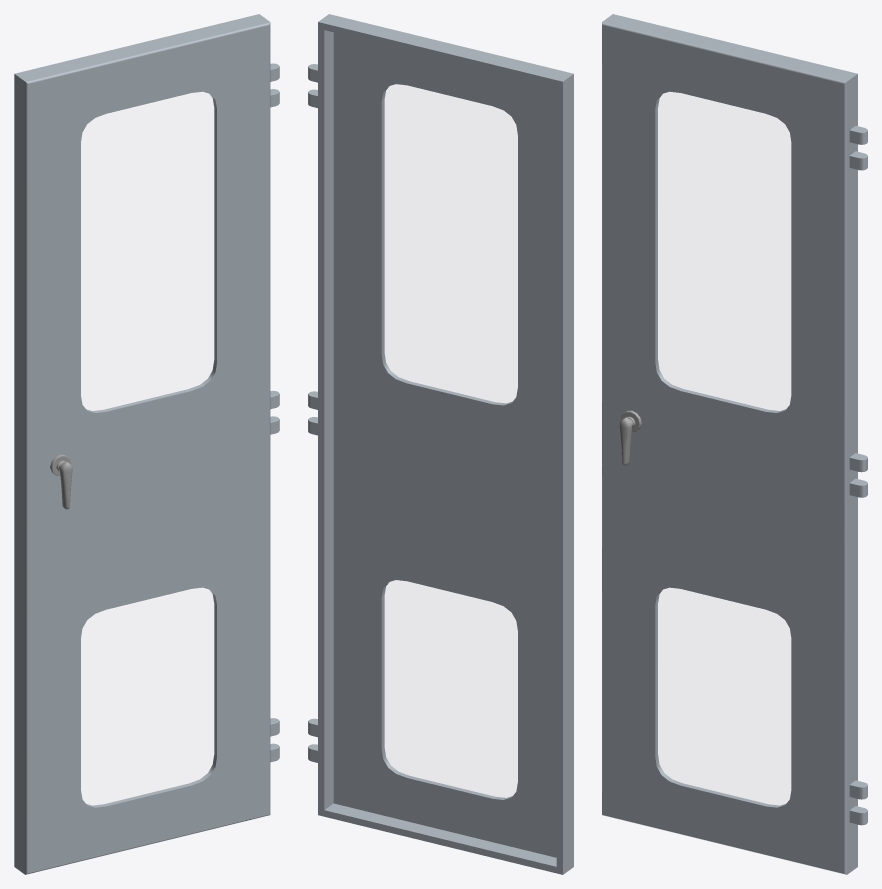
Rendered from PT_FRONT_DOOR2.fbx.
3 views of the same model, side by side, from view 1: azimuth 30°, elevation 25°; view 2: azimuth 150°, elevation 25°; view 3: azimuth 330°, elevation 25° (orthographic).
Visible parts, largest first — view 1: PT_FRONT_DOOR; view 2: PT_FRONT_DOOR; view 3: PT_FRONT_DOOR.
Part boxes in pixels (left/top/right/bottom): PT_FRONT_DOOR: left=14, top=14, right=279, bottom=874; PT_FRONT_DOOR: left=308, top=14, right=573, bottom=874; PT_FRONT_DOOR: left=602, top=14, right=867, bottom=874.
Size of the model in its own units: 0.6334 by 1.85 by 0.0934.
2 materials, 1 textured.
